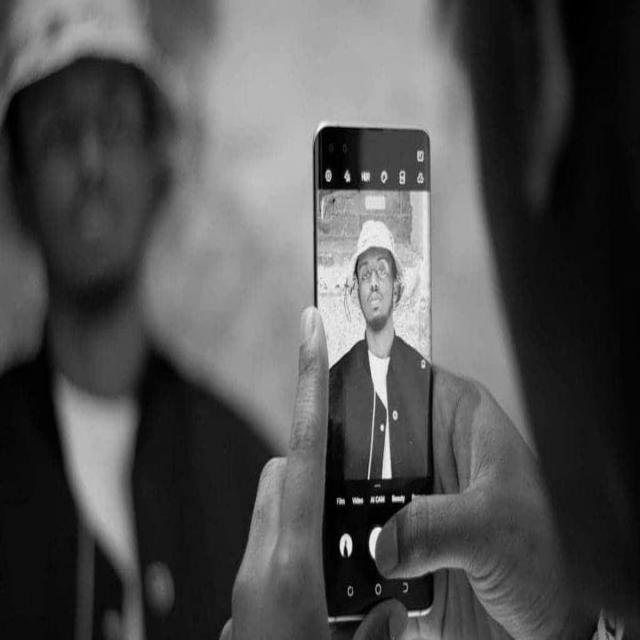fake: (308, 117, 442, 625)
